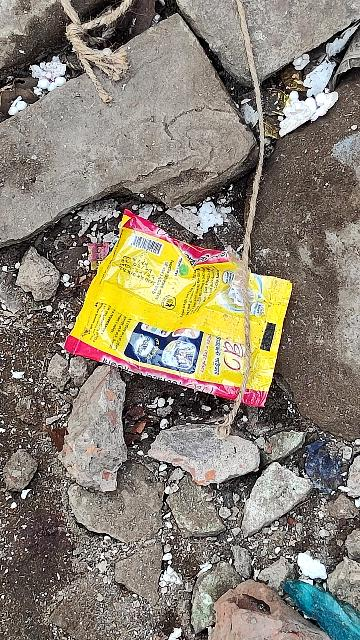packet: (71, 209, 323, 419)
